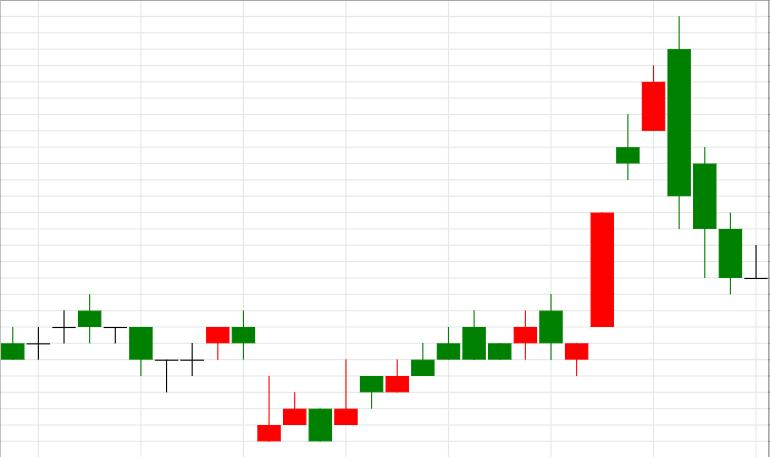bearish_engulfing_fall: (565, 16, 690, 376)
